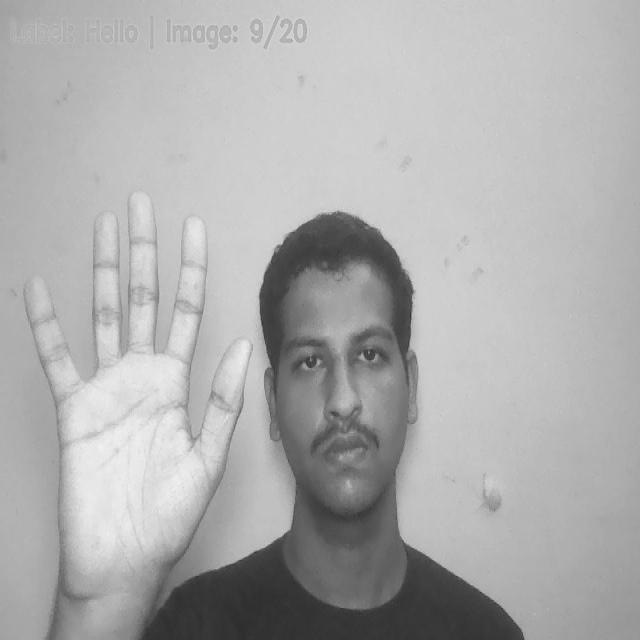Hello: (12, 198, 252, 576)
